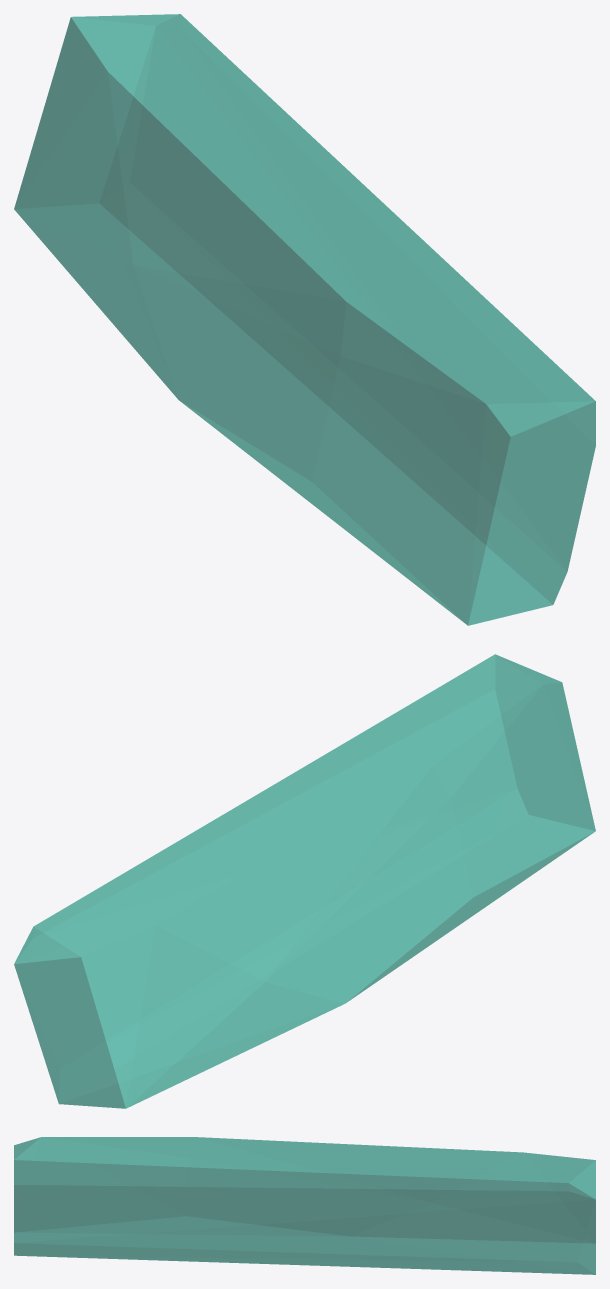
3 renders of one model, top to bottom at view 1: azimuth 30°, elevation 25°; view 2: azimuth 150°, elevation 25°; view 3: azimuth 270°, elevation 25°, orthographic. The views are drawn at different scales.
Visible parts, largest first — view 1: Shape_IndexedFaceSet.016_Shape_IndexedFaceSet.6198; view 2: Shape_IndexedFaceSet.016_Shape_IndexedFaceSet.6198; view 3: Shape_IndexedFaceSet.016_Shape_IndexedFaceSet.6198.
Part boxes in pixels (x1,y1,x2,y2): Shape_IndexedFaceSet.016_Shape_IndexedFaceSet.6198: (14, 14, 595, 625); Shape_IndexedFaceSet.016_Shape_IndexedFaceSet.6198: (14, 654, 595, 1108); Shape_IndexedFaceSet.016_Shape_IndexedFaceSet.6198: (14, 1137, 595, 1274).
Bounding box in the file's own units: 0.0352 × 0.0305 × 0.15.
